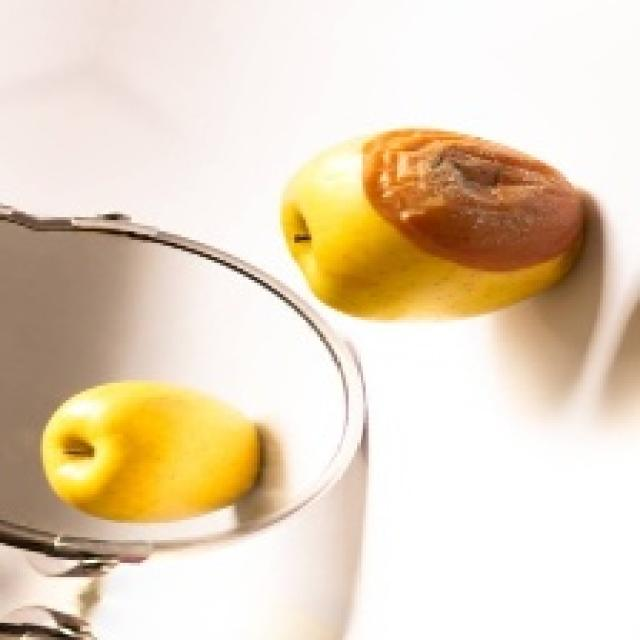rotten_apple: (279, 130, 582, 322)
